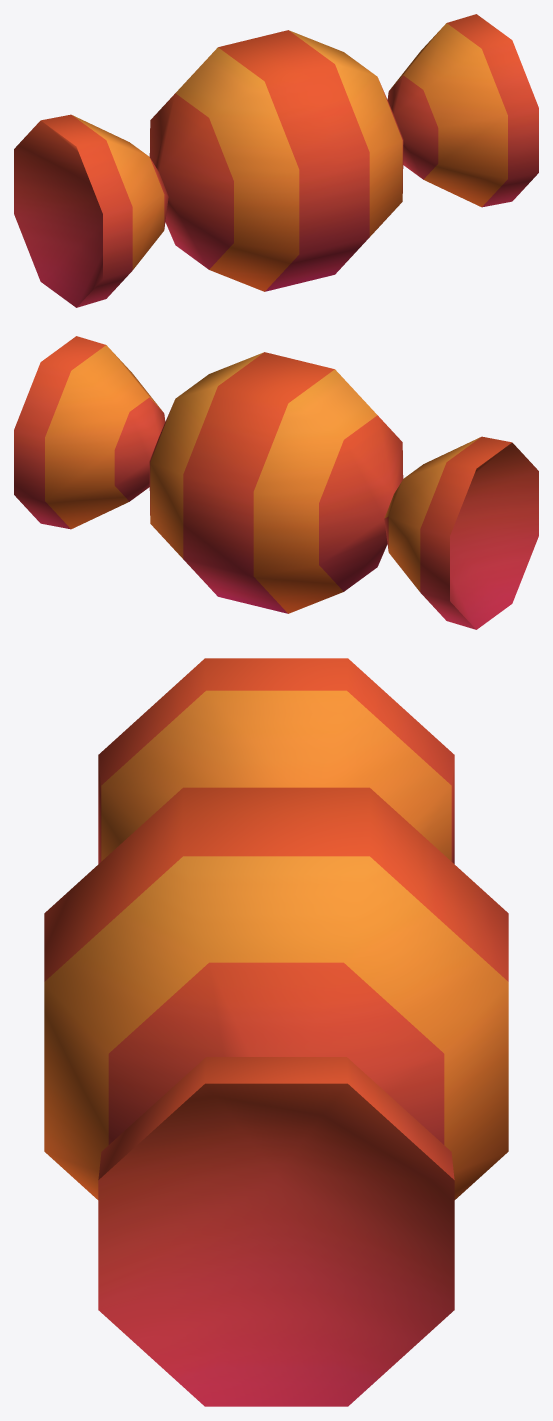
File: candy_orange_c.glb
3 views of the same model, one above another, from view 1: azimuth 30°, elevation 25°; view 2: azimuth 150°, elevation 25°; view 3: azimuth 270°, elevation 25° (orthographic). The views are drawn at different scales.
Parts seen in each view (by area): view 1: candy_orange_C; view 2: candy_orange_C; view 3: candy_orange_C.
Part boxes in pixels (x1,y1,x2,y2): candy_orange_C: (14, 14, 538, 307); candy_orange_C: (14, 336, 538, 629); candy_orange_C: (44, 658, 508, 1406).
Bounding box in the file's own units: 0.65 × 0.3 × 0.3.
1 material, 1 textured.
